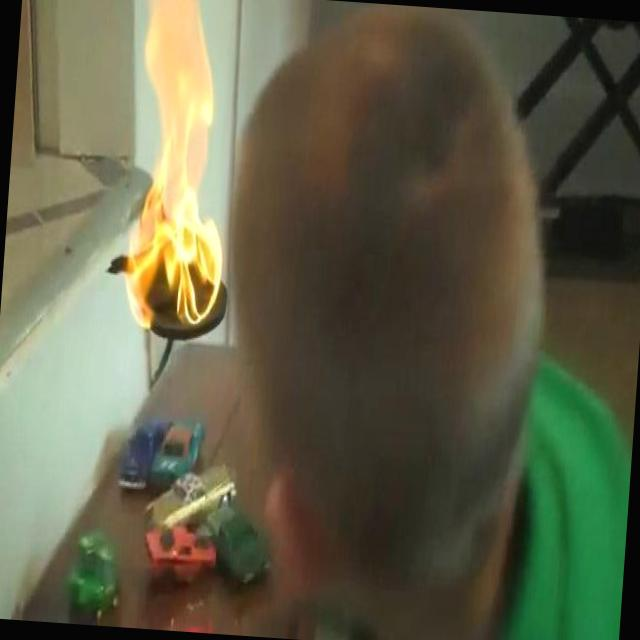fire: (93, 0, 242, 343)
